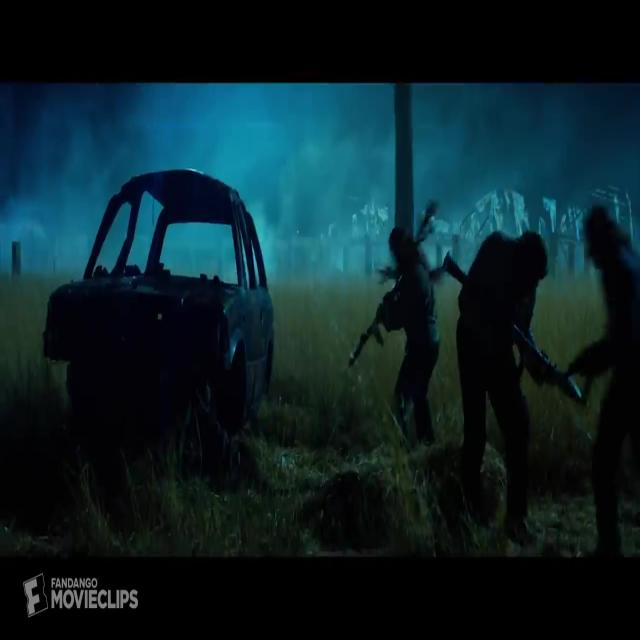Weapon: (439, 205, 592, 455), (333, 205, 422, 418), (556, 301, 614, 432)
